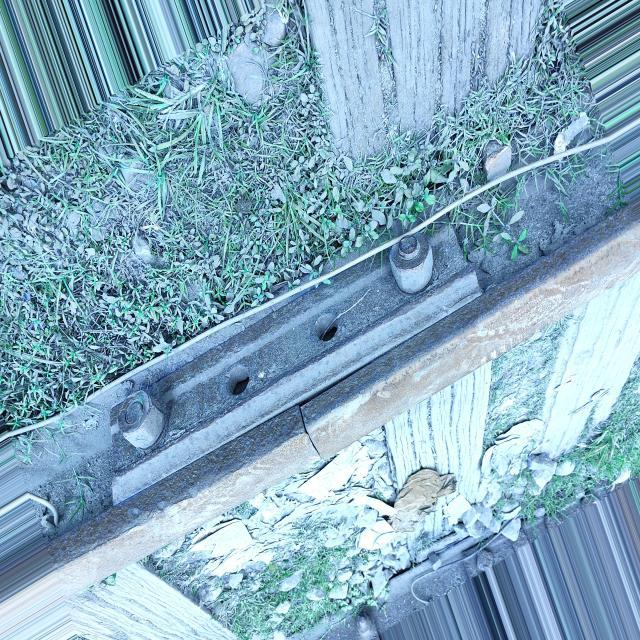Defective Joint: (108, 220, 488, 499)
